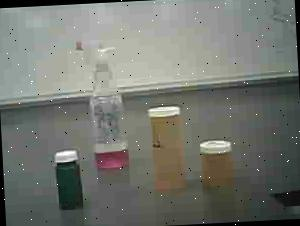Bottle A: (145, 97, 193, 201)
Bottle B: (194, 132, 242, 192)
Bottle C: (52, 144, 87, 214)
hazard: (68, 27, 142, 176)
